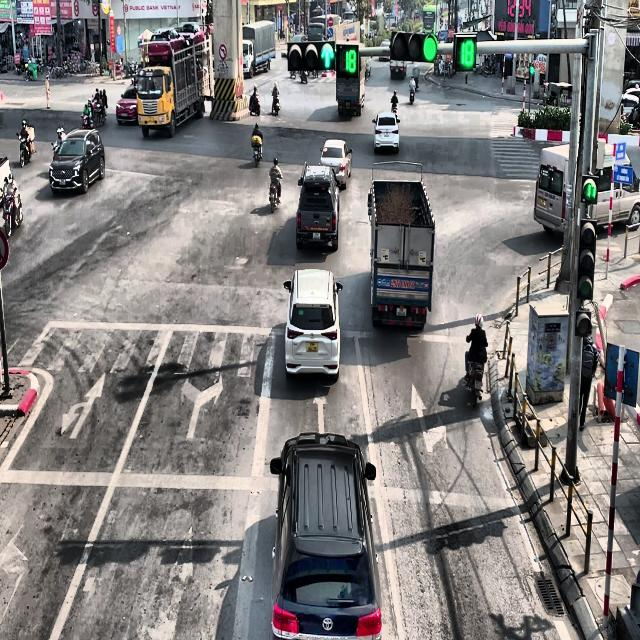lisence_plate: (306, 340, 318, 353), (395, 305, 407, 317), (311, 230, 321, 240)
